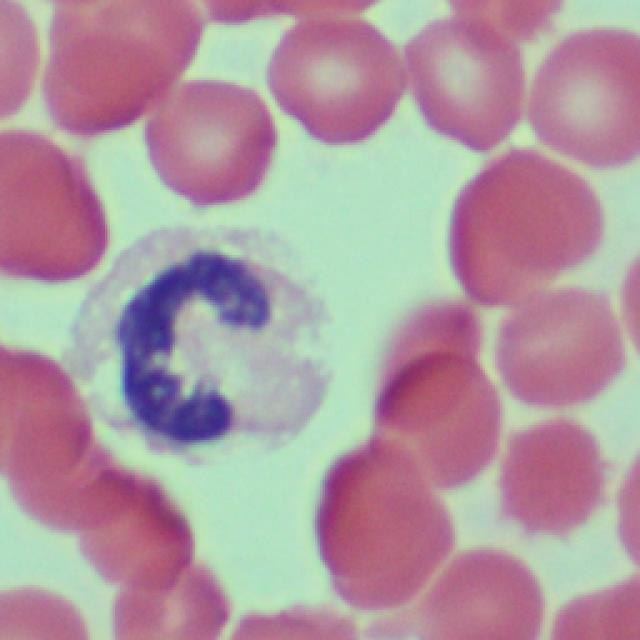RBC: (368, 297, 494, 501), (317, 444, 457, 624), (449, 144, 603, 304), (40, 0, 190, 141), (260, 0, 410, 138), (397, 1, 530, 147), (495, 269, 626, 413), (78, 462, 210, 604), (0, 332, 88, 537), (138, 77, 274, 207), (0, 129, 103, 295), (523, 27, 639, 172), (424, 544, 544, 639), (0, 2, 39, 121)
WBC: (105, 230, 309, 449)
